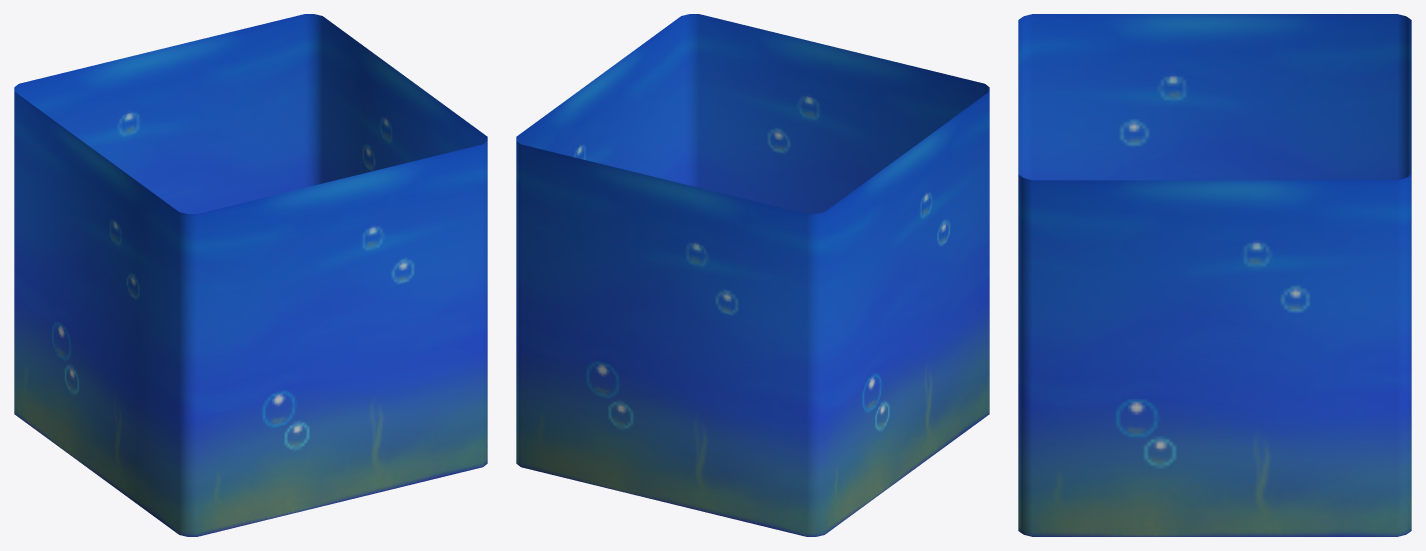
The model's file is Block_Rounded_Water.fbx.
The picture shows the model from 3 angles, left to right: view 1: azimuth 30°, elevation 25°; view 2: azimuth 150°, elevation 25°; view 3: azimuth 270°, elevation 25°; orthographic projection. The views are drawn at different scales.
Visible parts, largest first — view 1: Block_Rounded_Water; view 2: Block_Rounded_Water; view 3: Block_Rounded_Water.
Part boxes in pixels (left/top/right/bottom): Block_Rounded_Water: left=14, top=14, right=487, bottom=536; Block_Rounded_Water: left=516, top=14, right=989, bottom=536; Block_Rounded_Water: left=1018, top=14, right=1411, bottom=536.
Size of the model in its own units: 100 by 100 by 100.
